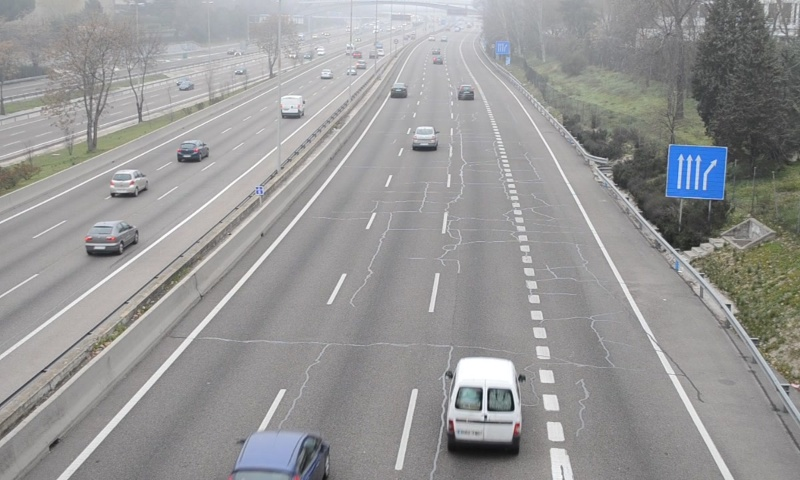car: (230, 431, 330, 480), (412, 126, 438, 149), (390, 82, 408, 99), (457, 84, 474, 101)
van: (446, 357, 522, 452)
